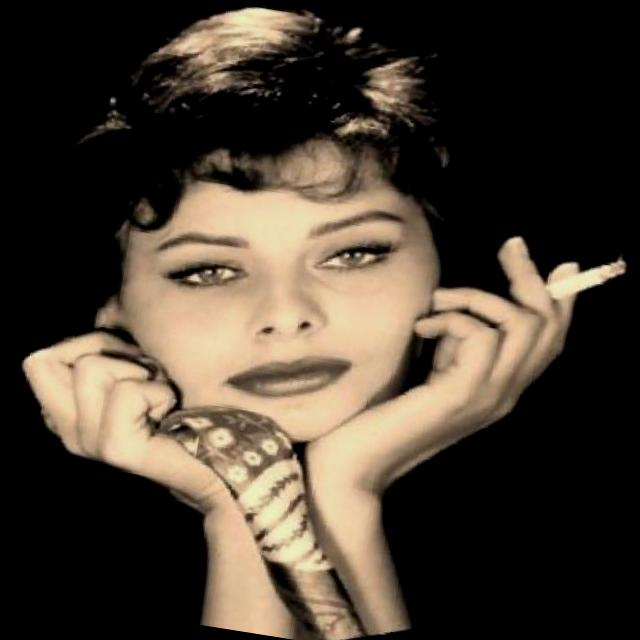cigarette: (536, 243, 638, 314)
